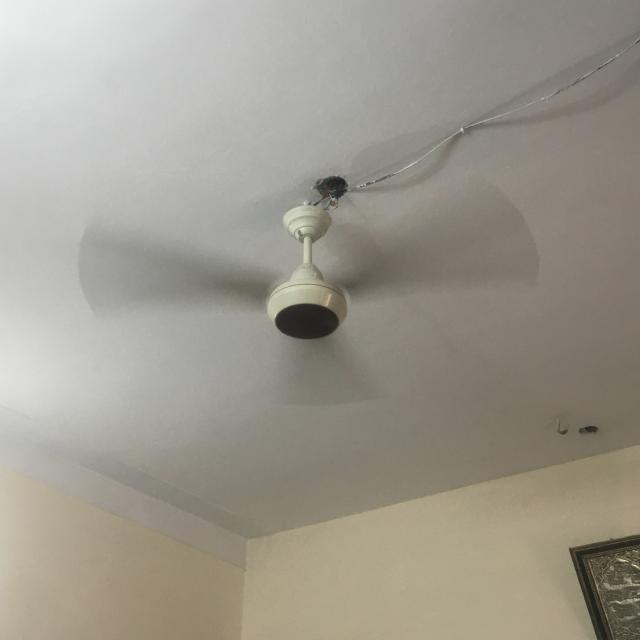on: (67, 162, 552, 418)
